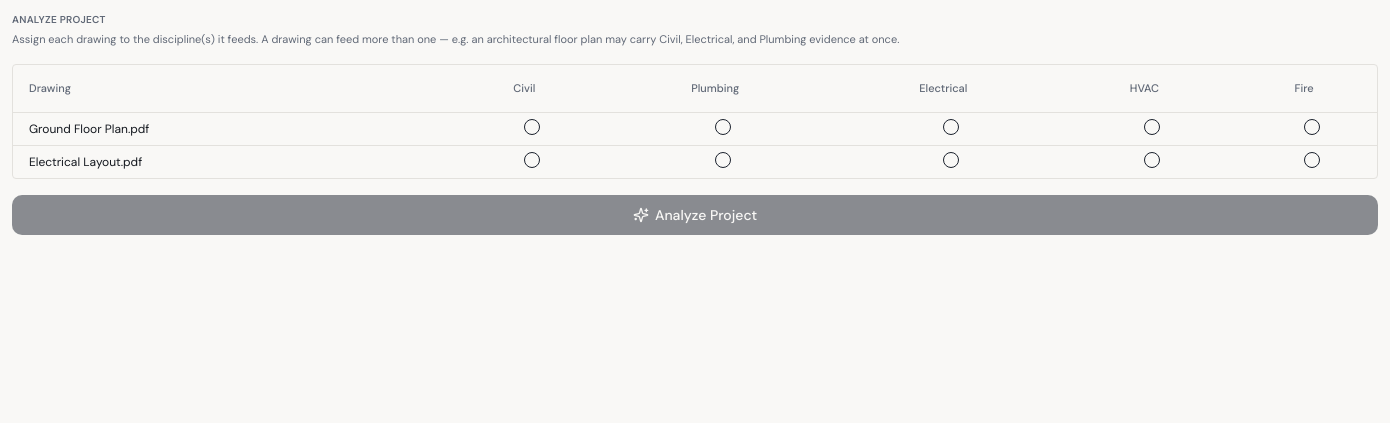
WorkspaceAnalyzePanel — a failed analysis says why › shows the server's reason when the BOQ analysis is refused
The image size is (1390, 423).
Expected: the text "Ground Floor Plan.pdf" is shown, [13,112,447,146]
Step 1. Click the checkbox named "Assign Ground Floor Plan.pdf to Civil Works" → [532, 127], box [524,119,540,135]
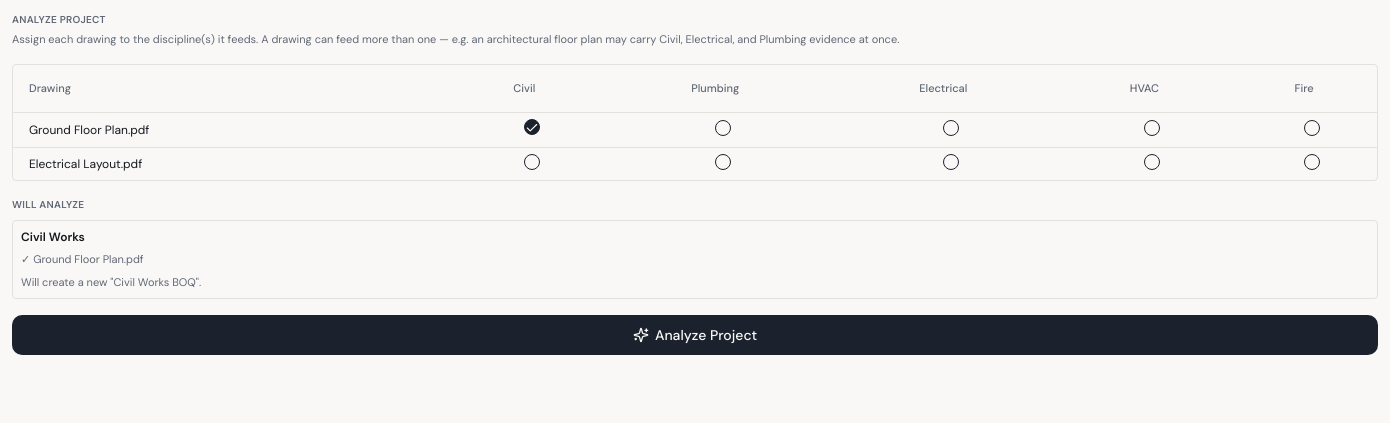
Step 2. Click the button "Analyze Project" → [695, 335], box [12,315,1378,355]
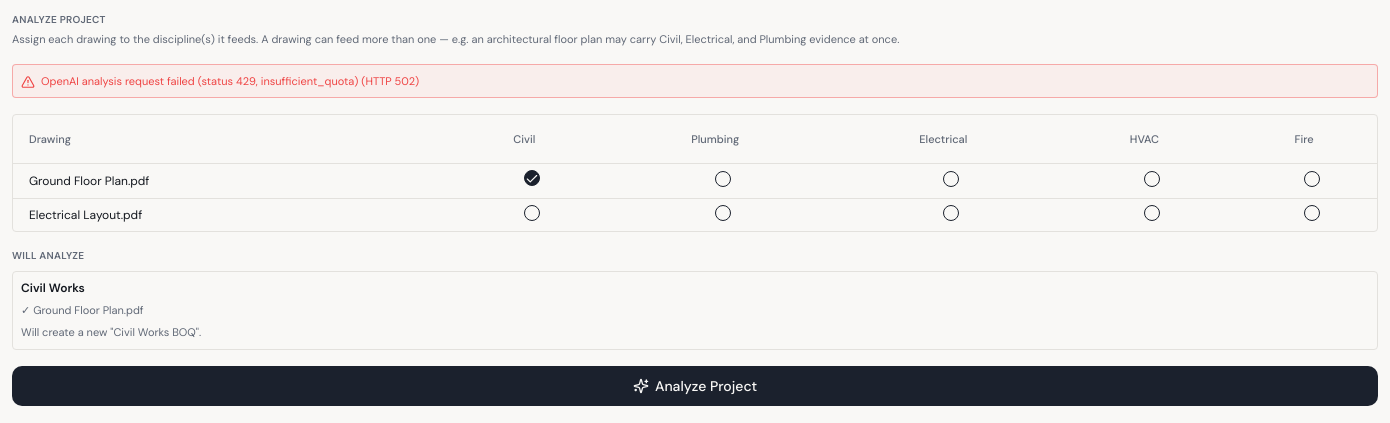
Now the text "OpenAI analysis request failed (status 429, insufficient_quota) (HTTP 502)" is shown, box [12,64,1378,98]
